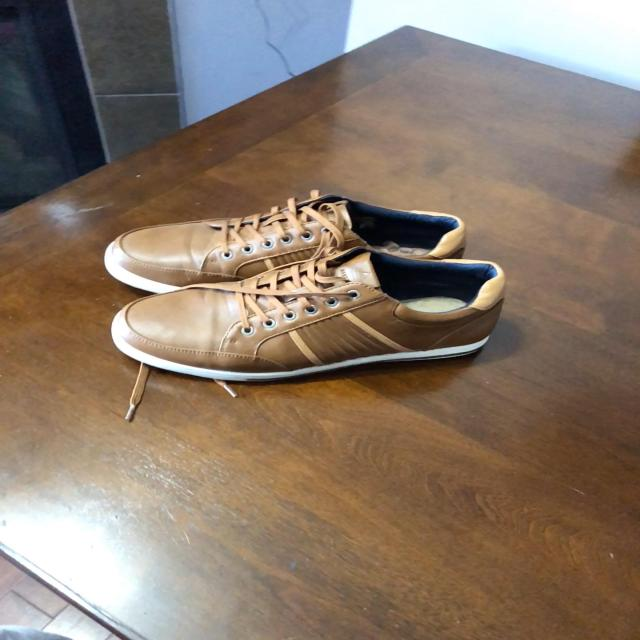shoe: (112, 256, 506, 417), (104, 198, 461, 294)
